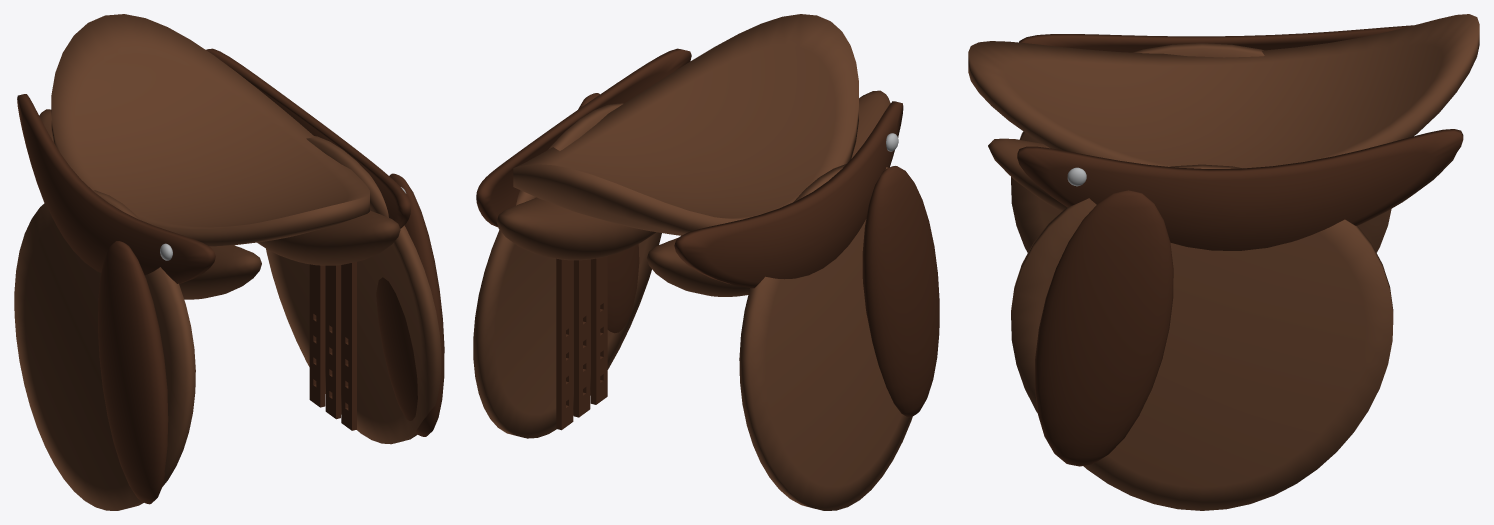
3 views of the same model, side by side, from view 1: azimuth 30°, elevation 25°; view 2: azimuth 150°, elevation 25°; view 3: azimuth 270°, elevation 25° (orthographic). The views are drawn at different scales.
Parts seen in each view (by area): view 1: Curved padded seat with pommel and cantle, Hanging saddle flap -1, Hanging saddle flap 1, Raised front knee roll -1, Upper leather skirt -1, Raised front knee roll 1, Underside padded panel 1, Upper leather skirt 1, Underside padded panel -1, Girth billet 1 0, Girth billet 1 1, Girth billet 1 2; view 2: Curved padded seat with pommel and cantle, Hanging saddle flap -1, Hanging saddle flap 1, Raised front knee roll -1, Upper leather skirt -1, Underside padded panel 1, Upper leather skirt 1, Underside padded panel -1, Girth billet 1 2, Girth billet 1 1, Girth billet 1 0, Raised front knee roll 1; view 3: Hanging saddle flap 1, Curved padded seat with pommel and cantle, Raised front knee roll 1, Upper leather skirt 1, Upper leather skirt -1, Hanging saddle flap -1, Underside padded panel 1.
Part boxes in pixels (x1,y1,x2,y2): Curved padded seat with pommel and cantle: [51, 14, 369, 246]; Hanging saddle flap -1: [14, 190, 195, 510]; Hanging saddle flap 1: [266, 136, 441, 444]; Raised front knee roll -1: [98, 241, 168, 504]; Upper leather skirt -1: [17, 94, 215, 283]; Raised front knee roll 1: [376, 173, 444, 436]; Underside padded panel 1: [257, 210, 400, 265]; Upper leather skirt 1: [206, 48, 410, 228]; Underside padded panel -1: [39, 109, 261, 299]; Girth billet 1 0: [341, 262, 356, 430]; Girth billet 1 1: [325, 265, 340, 419]; Girth billet 1 2: [309, 264, 325, 407]; Curved padded seat with pommel and cantle: [513, 14, 858, 235]; Hanging saddle flap -1: [739, 164, 912, 510]; Hanging saddle flap 1: [473, 103, 661, 438]; Raised front knee roll -1: [862, 166, 939, 417]; Upper leather skirt -1: [674, 101, 903, 288]; Underside padded panel 1: [496, 197, 656, 260]; Upper leather skirt 1: [476, 48, 691, 227]; Underside padded panel -1: [647, 90, 890, 296]; Girth billet 1 2: [556, 258, 573, 430]; Girth billet 1 1: [573, 259, 590, 417]; Girth billet 1 0: [590, 256, 607, 404]; Raised front knee roll 1: [578, 93, 639, 333]; Hanging saddle flap 1: [1011, 164, 1393, 510]; Curved padded seat with pommel and cantle: [968, 14, 1479, 168]; Raised front knee roll 1: [1034, 190, 1173, 466]; Upper leather skirt 1: [1017, 129, 1463, 250]; Upper leather skirt -1: [1019, 25, 1412, 52]; Hanging saddle flap -1: [1011, 43, 1391, 252]; Underside padded panel 1: [988, 138, 1456, 225].
Bounding box in the file's own units: 0.374 × 0.413 × 0.47.
